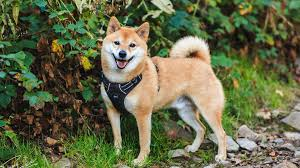chien: (95, 18, 234, 162)
